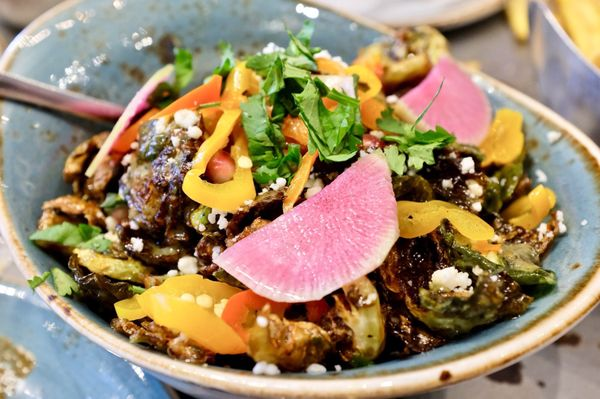salad: (0, 71, 126, 125)
sushi: (8, 1, 594, 397)
